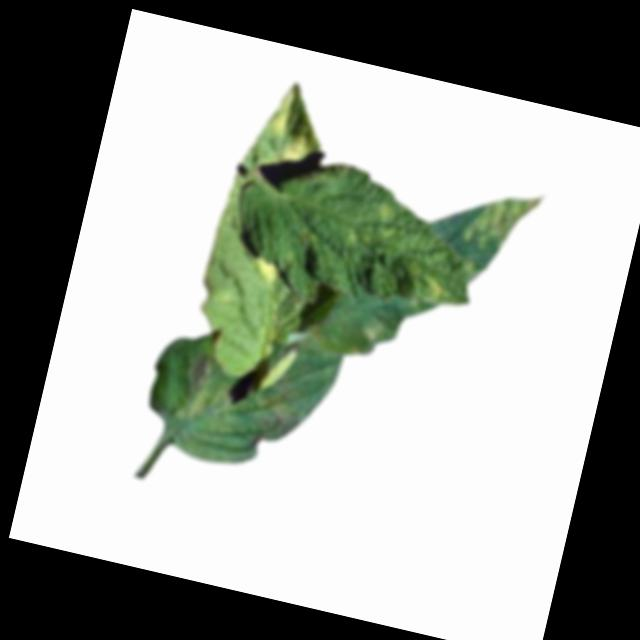Leaf_Mold: (462, 177, 547, 259), (173, 346, 239, 429), (265, 85, 297, 140), (249, 254, 282, 290), (418, 271, 452, 304), (283, 134, 312, 170), (373, 199, 404, 227)
